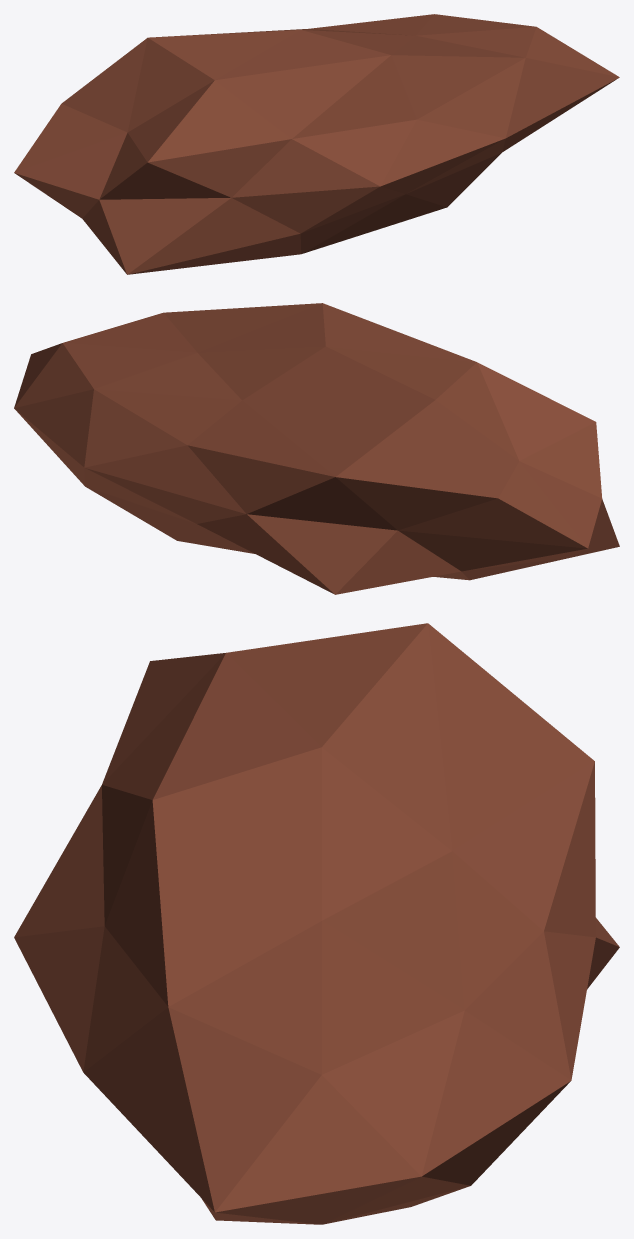
Rendered from mars_boulder_flat.glb.
3 renders of one model, top to bottom at view 1: azimuth 30°, elevation 25°; view 2: azimuth 150°, elevation 25°; view 3: azimuth 270°, elevation 25°, orthographic. The views are drawn at different scales.
Parts seen in each view (by area): view 1: BoulderFlat; view 2: BoulderFlat; view 3: BoulderFlat.
Part boxes in pixels (box(x1,y1,x2,y2)): BoulderFlat: box(14, 14, 619, 274); BoulderFlat: box(14, 303, 619, 594); BoulderFlat: box(14, 623, 619, 1224).
Size of the model in its own units: 3.26 by 1.08 by 1.6.
